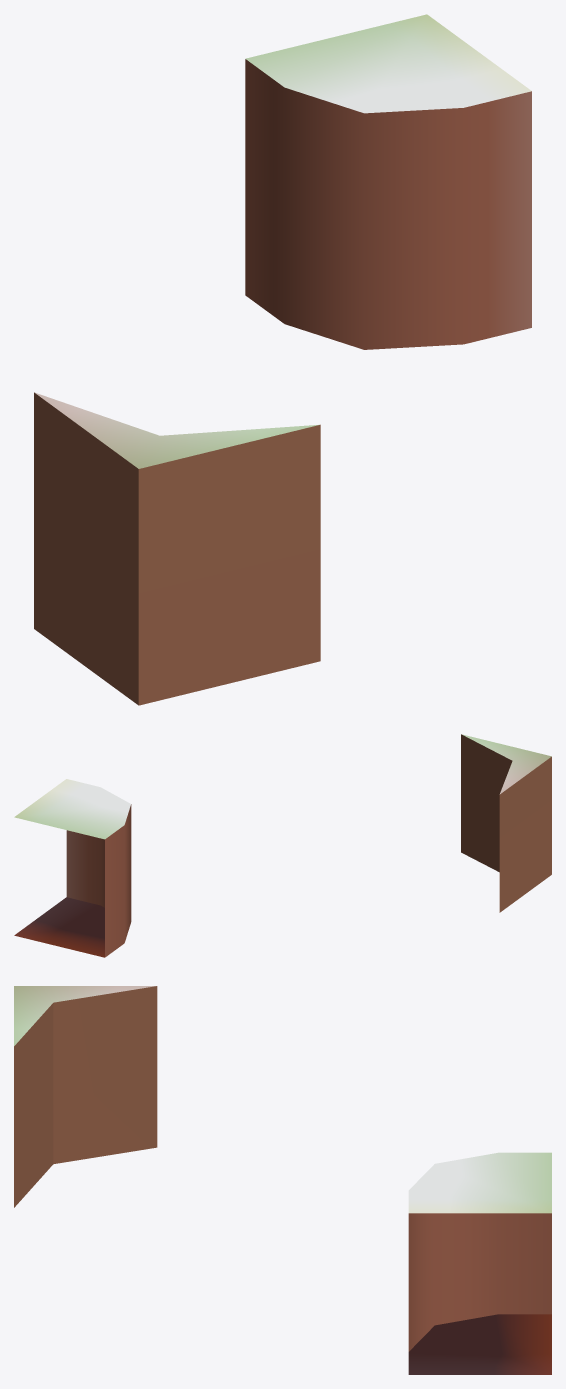
File: SeaCorner.ConvexConcave.D.Snow.glb
3 views of the same model, one above another, from view 1: azimuth 30°, elevation 25°; view 2: azimuth 150°, elevation 25°; view 3: azimuth 270°, elevation 25° (orthographic). The views are drawn at different scales.
Parts seen in each view (by area): view 1: SeaCorner.ConvexConcave.D.Snow; view 2: SeaCorner.ConvexConcave.D.Snow; view 3: SeaCorner.ConvexConcave.D.Snow.
Boxes of the visible parts, box(x1,y1,x2,y2) form: SeaCorner.ConvexConcave.D.Snow: box(34, 14, 531, 705); SeaCorner.ConvexConcave.D.Snow: box(14, 734, 551, 957); SeaCorner.ConvexConcave.D.Snow: box(14, 986, 551, 1374).
Size of the model in its own units: 3 by 0.9943 by 3.
1 material, 1 textured.
